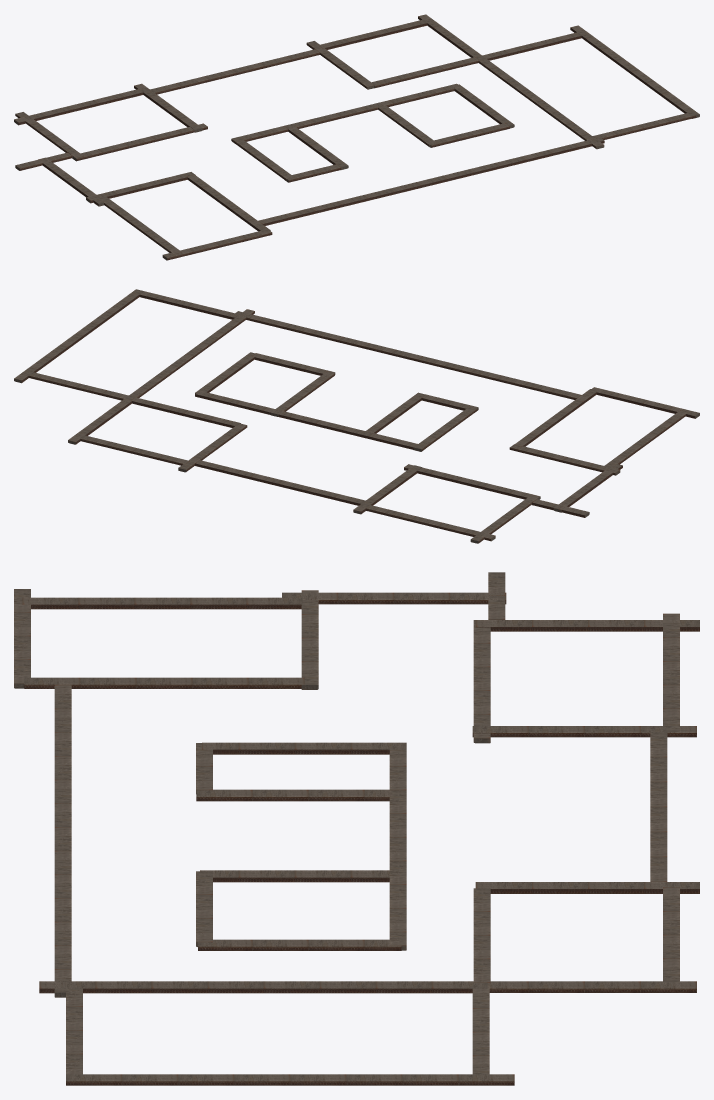
The model's file is Celling_FF.fbx.
3 views of the same model, one above another, from view 1: azimuth 30°, elevation 25°; view 2: azimuth 150°, elevation 25°; view 3: azimuth 270°, elevation 25° (orthographic). The views are drawn at different scales.
Visible parts, largest first — view 1: Cube.038, Cube.041, Cube.036, Cube.037, Cube.048, Cube.029, Cube.028, Cube.032, Cube.025, Cube.033, Cube.024, Cube.030 (+13 smaller); view 2: Cube.038, Cube.041, Cube.036, Cube.048, Cube.037, Cube.029, Cube.028, Cube.032, Cube.024, Cube.033, Cube.025, Cube.030 (+14 smaller); view 3: Cube.037, Cube.038, Cube.036, Cube.033, Cube.041, Cube.032, Cube.048, Cube.046, Cube.040, Cube.022, Cube.039, Cube.023 (+14 smaller).
Part boxes in pixels (left/top/right/bottom): Cube.038: left=258, top=137, right=604, bottom=225; Cube.041: left=237, top=83, right=460, bottom=141; Cube.036: left=570, top=25, right=699, bottom=118; Cube.037: left=476, top=56, right=604, bottom=149; Cube.048: left=150, top=49, right=319, bottom=94; Cube.029: left=14, top=87, right=149, bottom=125; Cube.028: left=72, top=123, right=207, bottom=161; Cube.032: left=187, top=174, right=270, bottom=231; Cube.025: left=318, top=19, right=427, bottom=49; Cube.033: left=99, top=196, right=181, bottom=253; Cube.024: left=370, top=57, right=479, bottom=88; Cube.030: left=162, top=230, right=272, bottom=260; Cube.038: left=234, top=311, right=581, bottom=399; Cube.041: left=195, top=390, right=424, bottom=449; Cube.036: left=14, top=289, right=143, bottom=383; Cube.048: left=195, top=460, right=366, bottom=505; Cube.037: left=125, top=309, right=254, bottom=399; Cube.029: left=359, top=503, right=495, bottom=541; Cube.028: left=404, top=464, right=540, bottom=499; Cube.032: left=514, top=389, right=597, bottom=446; Cube.024: left=131, top=397, right=240, bottom=427; Cube.033: left=604, top=410, right=687, bottom=467; Cube.025: left=80, top=435, right=189, bottom=465; Cube.030: left=591, top=387, right=699, bottom=418; Cube.037: left=39, top=981, right=487, bottom=993; Cube.038: left=54, top=684, right=71, bottom=997; Cube.036: left=66, top=1074, right=514, bottom=1085; Cube.033: left=22, top=597, right=302, bottom=609; Cube.041: left=389, top=746, right=406, bottom=950; Cube.032: left=24, top=677, right=304, bottom=688; Cube.048: left=650, top=732, right=667, bottom=881; Cube.046: left=282, top=592, right=506, bottom=604; Cube.040: left=202, top=742, right=406, bottom=754; Cube.022: left=475, top=882, right=699, bottom=893; Cube.039: left=196, top=789, right=389, bottom=801; Cube.023: left=487, top=981, right=696, bottom=992.
Bounding box in the file's own units: 58.98 × 0.2887 × 33.58.
